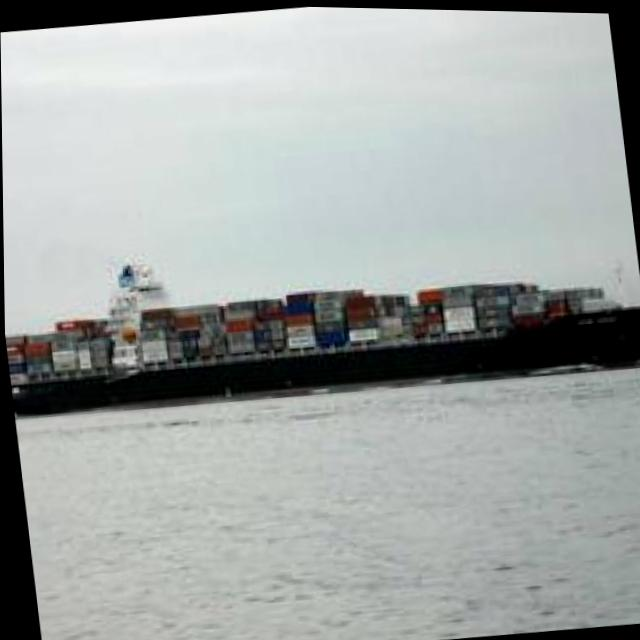ship2: (4, 252, 640, 419)
